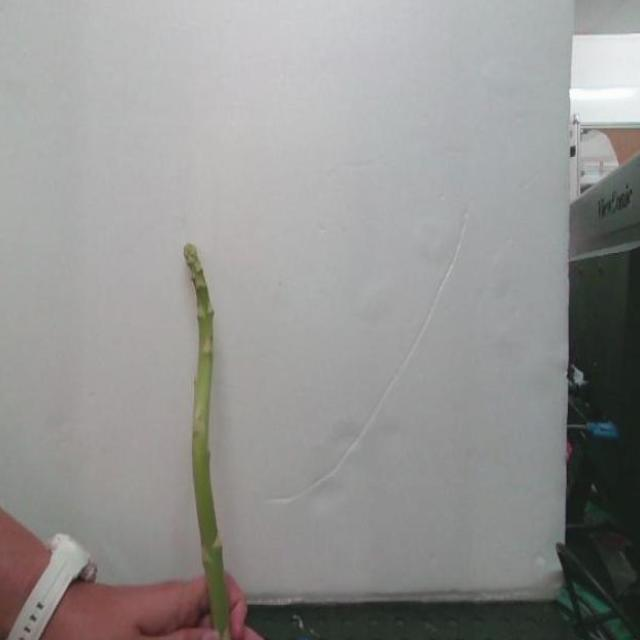aspargus: (183, 246, 230, 640)
